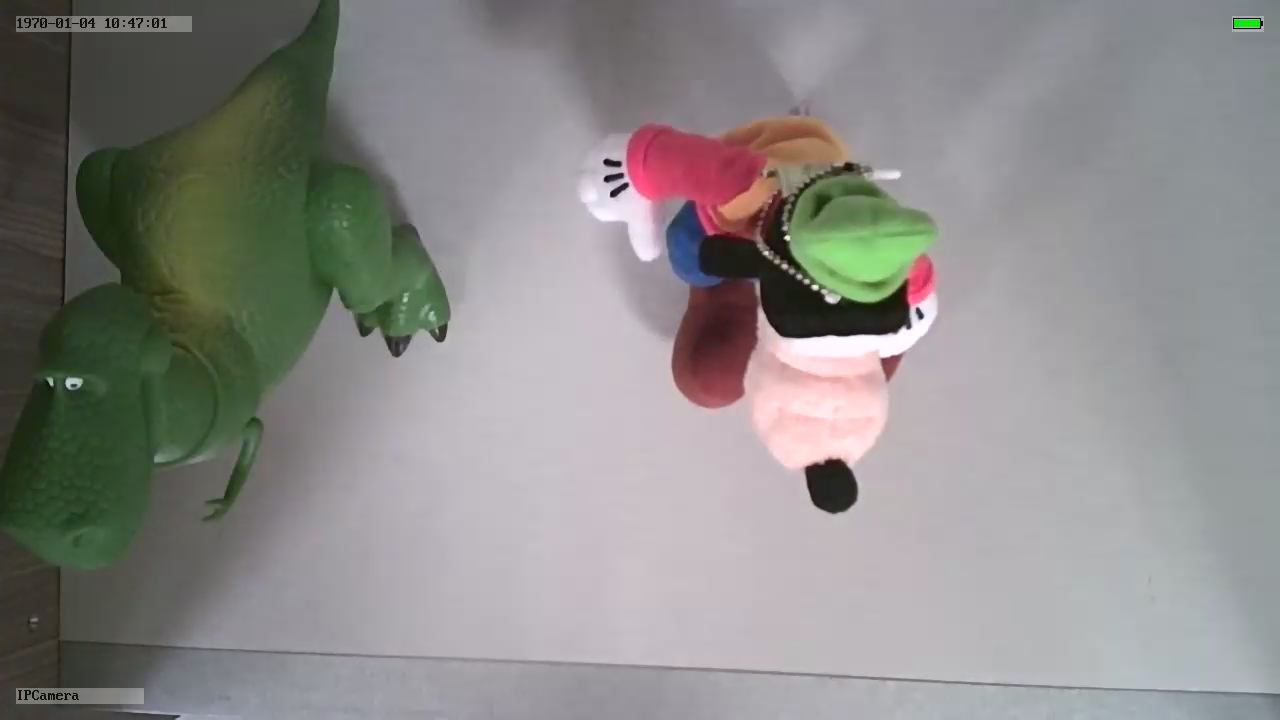goofy: (578, 108, 942, 513)
